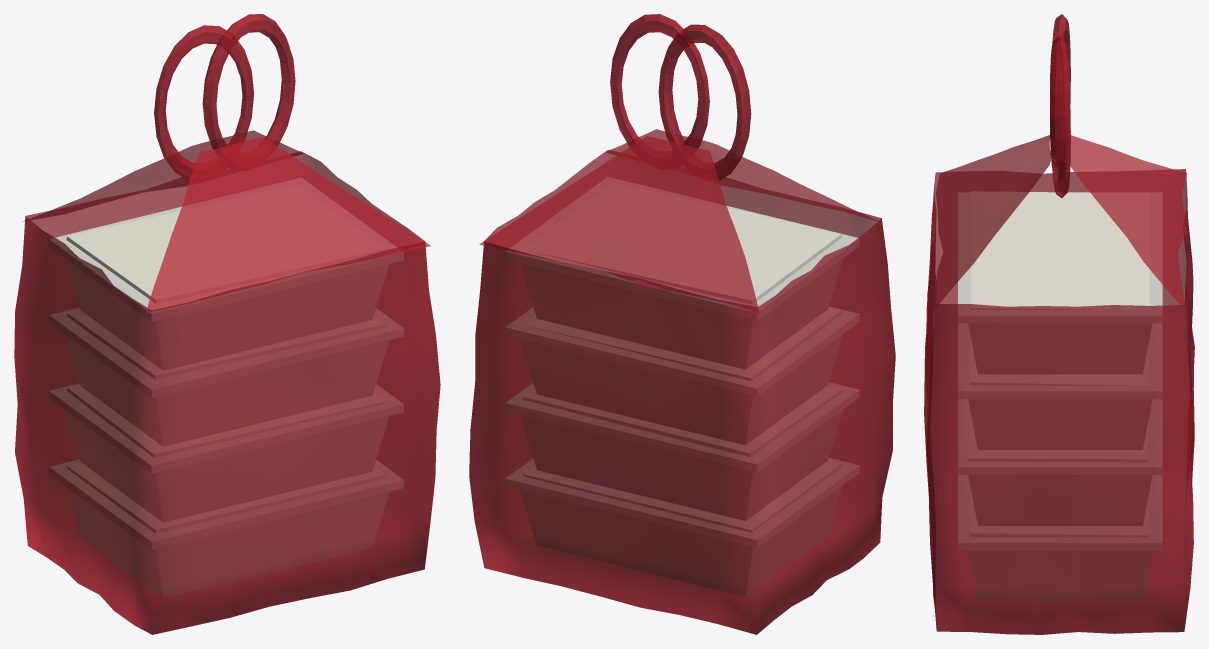
The model's file is prop-bag.glb.
The picture shows the model from 3 angles, left to right: view 1: azimuth 30°, elevation 25°; view 2: azimuth 150°, elevation 25°; view 3: azimuth 270°, elevation 25°; orthographic projection.
Parts seen in each view (by area): view 1: TakeawayBag; view 2: TakeawayBag; view 3: TakeawayBag.
Part boxes in pixels (box(x1,y1,x2,y2)): TakeawayBag: box(14, 14, 440, 634); TakeawayBag: box(469, 14, 895, 634); TakeawayBag: box(924, 14, 1194, 634).
Bounding box in the file's own units: 0.2391 × 0.4123 × 0.1878.
